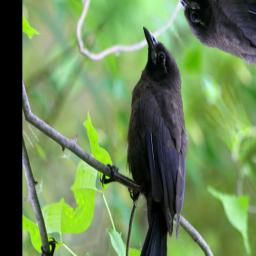Crow: (50, 18, 254, 256)
